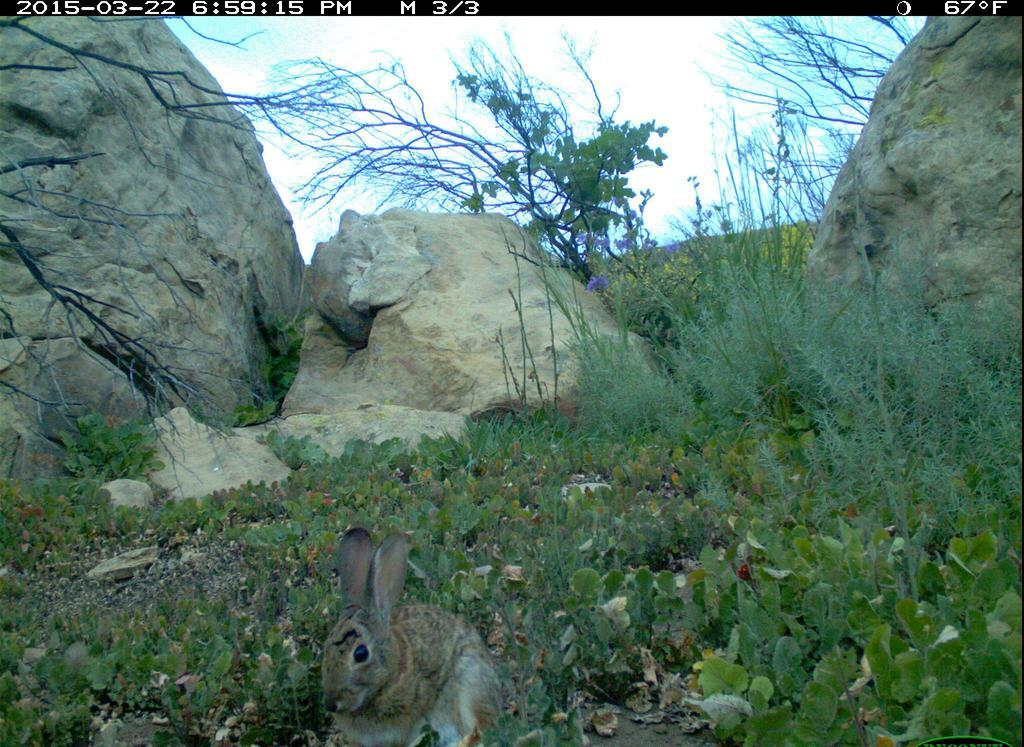rabbit: (304, 519, 507, 747)
